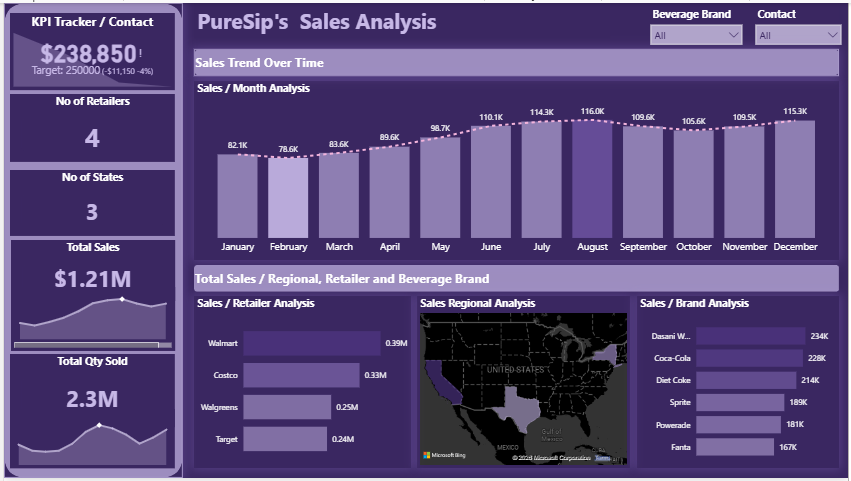

The page's visual inventory and layout, read from the dashboard file:
{"tool":"powerbi","page":{"name":"PureSip ","canvas":[1280,720],"ordinal":0},"visuals":[{"type":"shape","box":[0,0,271.5,720.4],"z":0},{"type":"lineClusteredColumnComboChart","title":"Sales / Month Analysis","fields":{"Y":["Sum(PureSip Data.Sales)"],"Category":["PureSip Data.Order Date.Variation.Date Hierarchy.Month"],"Y2":["Sum(PureSip Data.Sales)"]},"box":[288.3,117.7,978.5,272],"z":1000},{"type":"filledMap","title":" Sales Regional Analysis","fields":{"Category":["PureSip Data.State"]},"box":[626.6,443.9,323.5,261.2],"z":2000},{"type":"clusteredBarChart","title":"Sales / Retailer Analysis","fields":{"Category":["PureSip Data.Retailer"],"Y":["Sum(PureSip Data.Sales)"]},"box":[288.3,443.9,328.9,261.2],"z":3000},{"type":"clusteredBarChart","title":"Sales / Brand Analysis","fields":{"Category":["PureSip Data.Beverage Brand"],"Y":["Sum(PureSip Data.Sales)"]},"box":[959.5,443.9,307.2,261.2],"z":4000},{"type":"cardVisual","title":"No of Retailers","fields":{"Data":["Caculated Measures.No of Retailers"]},"box":[9.1,138,250.2,103.1],"z":5000},{"type":"cardVisual","title":"No of States","fields":{"Data":["Caculated Measures.No of States"]},"box":[9.1,253.3,250.2,100.1],"z":6000},{"type":"cardVisual","title":"Total Qty Sold","fields":{"Data":["Caculated Measures.Total Qty Sold"]},"box":[9.1,532.3,250.2,110.7],"z":6000,"group":"g2"},{"type":"kpi","title":"KPI Tracker / Contact","fields":{"Indicator":["Caculated Measures.Total Sales"],"TrendLine":["PureSip Data.Contact"],"Goal":["Caculated Measures.Target Sales"]},"box":[9.1,15.2,250.2,116.8],"z":7000},{"type":"cardVisual","title":"Total Sales","fields":{"Data":["Caculated Measures.Total Sales"]},"box":[10.6,359.4,248.6,91.6],"z":7000,"group":"g1"},{"type":"slicer","fields":{"Values":["PureSip Data.Contact"]},"box":[1129.9,0,150.1,65.2],"z":8000},{"type":"shape","box":[288.3,397.9,978.5,40.6],"z":9000},{"type":"shape","box":[288.3,70.4,978.5,40.6],"z":10000},{"type":"group","id":"g1","title":"Group 1","box":[10.6,359.4,248.7,169.9],"z":11000},{"type":"group","id":"g2","title":"Group 2","box":[9.1,532.3,250.2,172.9],"z":12000},{"type":"slicer","fields":{"Values":["PureSip Data.Beverage Brand"]},"box":[970.6,0,159.2,65.2],"z":13000},{"type":"areaChart","title":"Total Sales","fields":{"Y":["Caculated Measures.Total Sales"],"Category":["PureSip Data.Order Date.Variation.Date Hierarchy.Month"]},"box":[10.6,431.3,248.6,97.3],"z":13000,"group":"g1"},{"type":"areaChart","title":"Total Sales","fields":{"Category":["PureSip Data.Order Date.Variation.Date Hierarchy.Month"],"Y":["Caculated Measures.Total Qty Sold"]},"box":[9.1,615.3,250.2,89.9],"z":13001,"group":"g2"},{"type":"textbox","box":[288.3,0,630.7,54.1],"z":14000}]}

Visuals, with their boxes in screenshot pixels (x1, y1, x2, y2), scaled from the page's 1280x720 canvas onto the 851x481 screenshot:
shape: 0 0 181 480
"Sales / Month Analysis" lineClusteredColumnComboChart: 192 79 842 260
" Sales Regional Analysis" filledMap: 417 297 632 471
"Sales / Retailer Analysis" clusteredBarChart: 192 297 410 471
"Sales / Brand Analysis" clusteredBarChart: 638 297 842 471
"No of Retailers" cardVisual: 6 92 172 161
"No of States" cardVisual: 6 169 172 236
"Total Qty Sold" cardVisual: 6 356 172 430
"KPI Tracker / Contact" kpi: 6 10 172 88
"Total Sales" cardVisual: 7 240 172 301
slicer - PureSip Data.Contact: 751 0 850 44
shape: 192 266 842 293
shape: 192 47 842 74
"Group 1" group: 7 240 172 354
"Group 2" group: 6 356 172 471
slicer - PureSip Data.Beverage Brand: 645 0 751 44
"Total Sales" areaChart: 7 288 172 353
"Total Sales" areaChart: 6 411 172 471
textbox: 192 0 611 36
